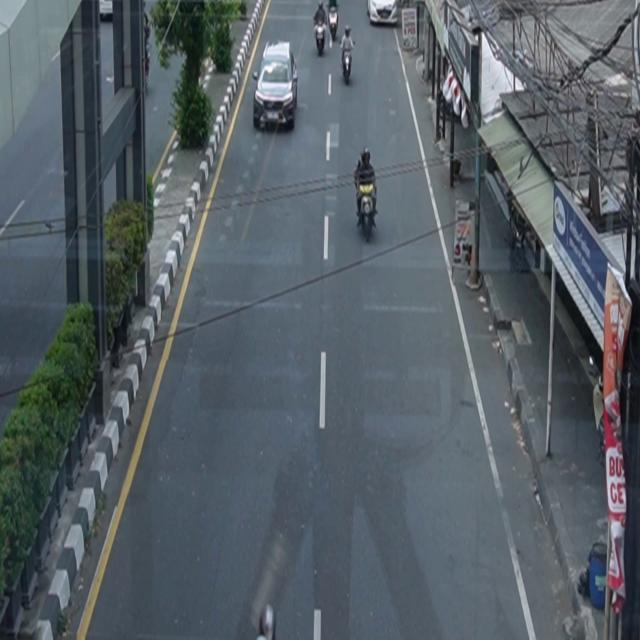car: (253, 40, 299, 131), (367, 1, 399, 27)
